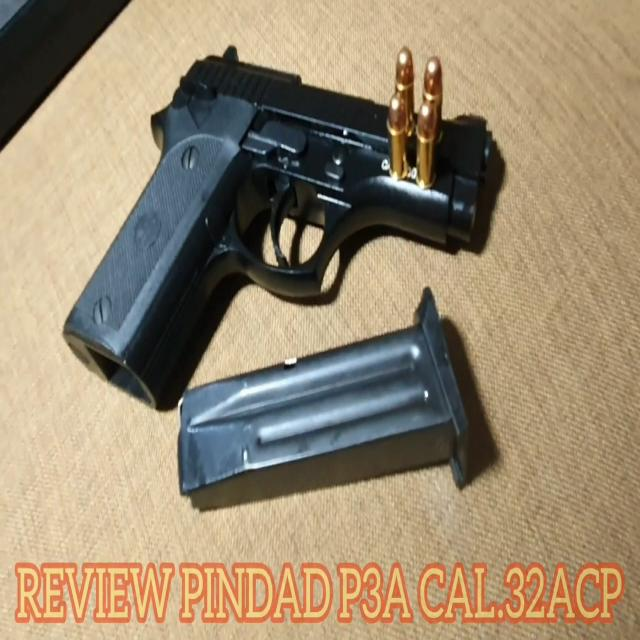handgun: (55, 42, 508, 418)
